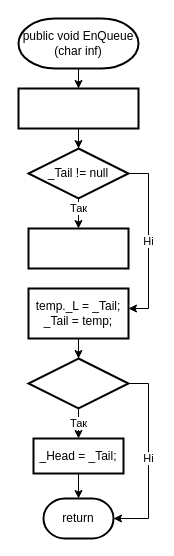
The diagram is 174 pixels wide and 556 high, and some of its shapes have lost their labels. The shapes that lost their labels are listed below. From the top down, each one's box as (x1, y1, x2, y2) in pixels, then its label:
(17, 87, 139, 129): Elem temp = new Elem(inf);
(27, 227, 129, 269): _Tail._R = temp;
(27, 357, 129, 409): _Head == null
